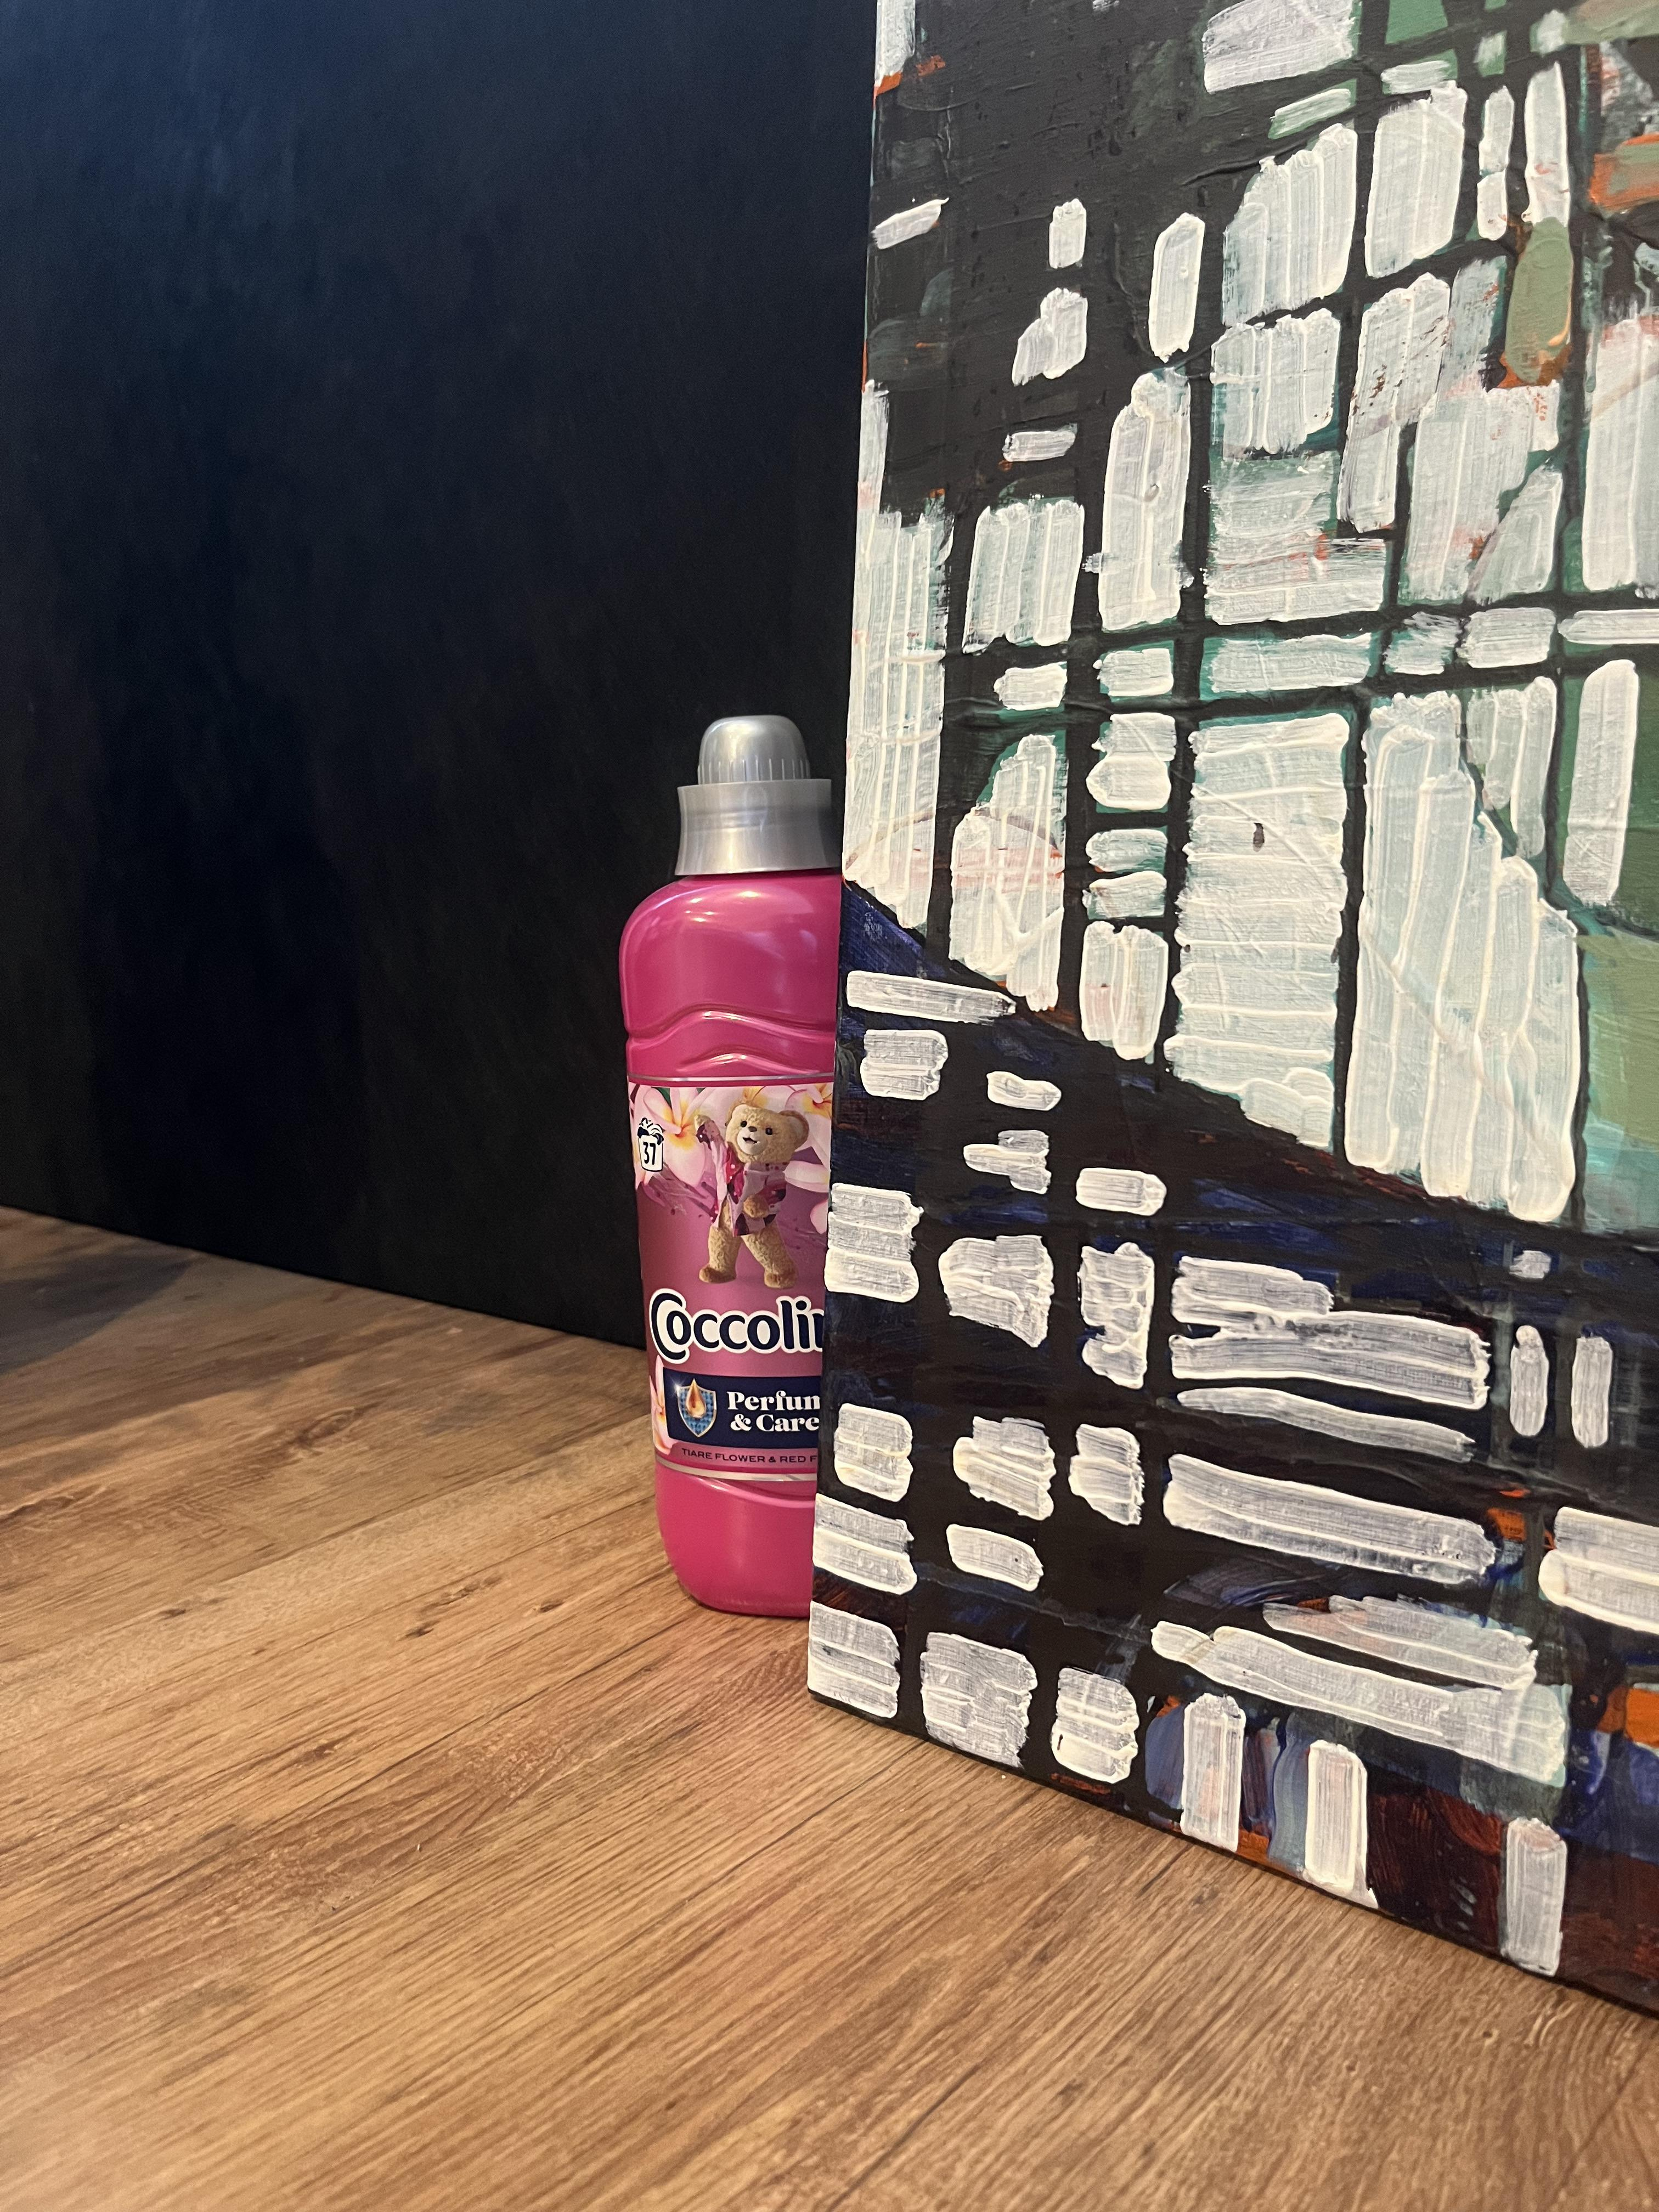cocolino: (603, 873, 854, 1623)
